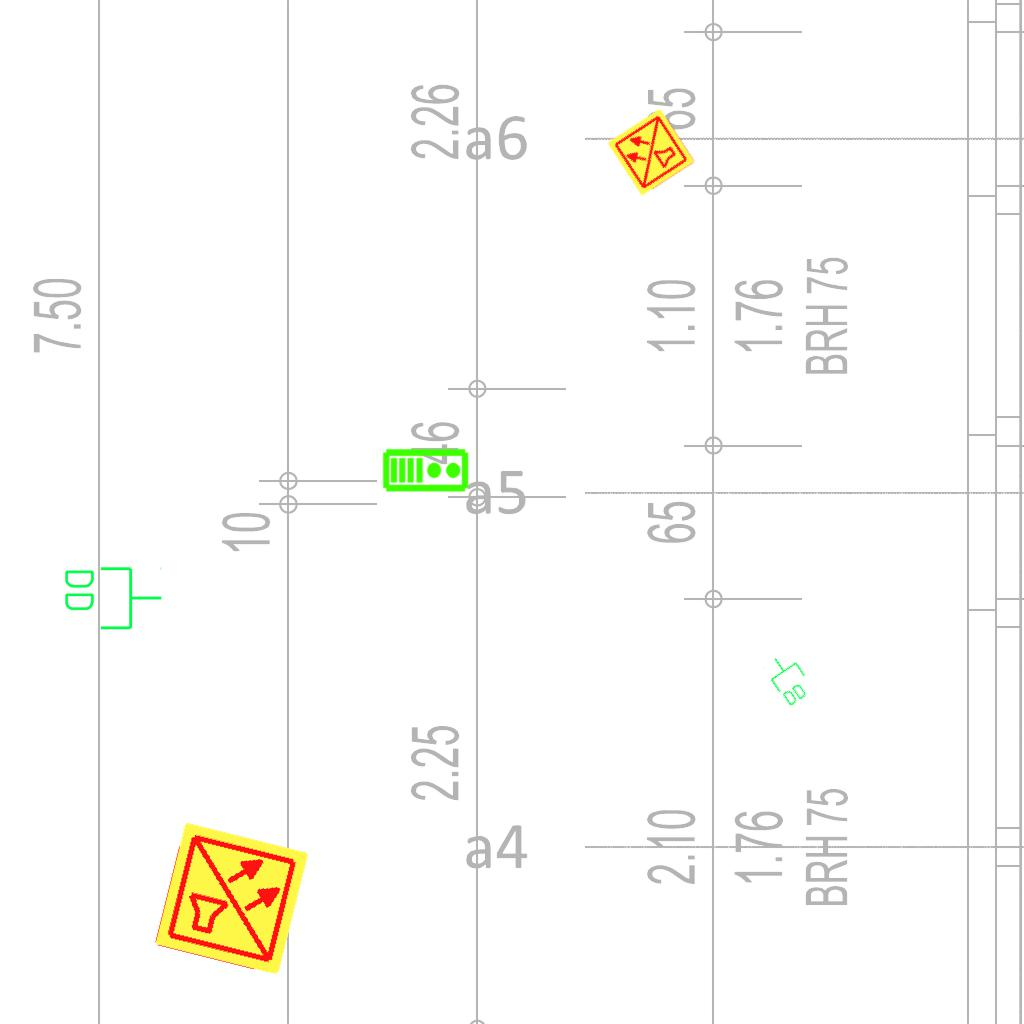Datenanschluss_zweifach: (61, 563, 164, 632), (760, 648, 817, 710)
Gegensprechanlage_mit_Video: (382, 446, 470, 493)
OKW_Multisensormelder_(Kombination_optischer_Rauch-Kahlenmonoxid_Waerme-Melder): (151, 818, 313, 980), (605, 106, 697, 198)
